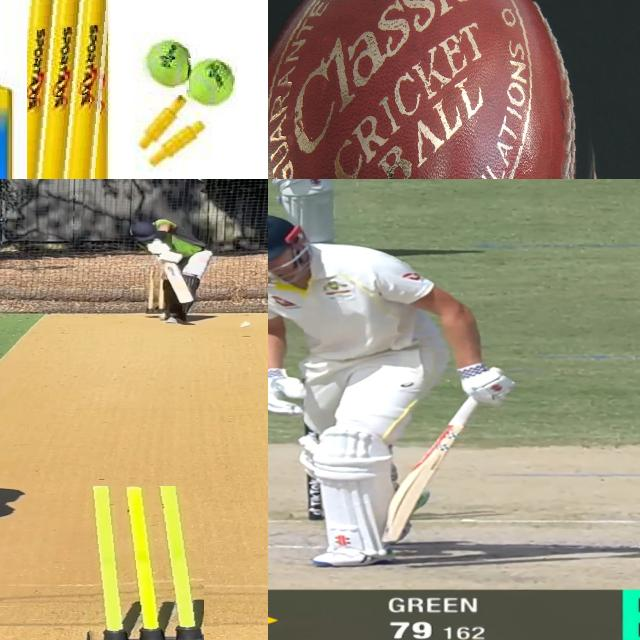Cricket ball: (268, 0, 617, 179), (140, 36, 191, 92), (187, 58, 237, 110), (238, 320, 254, 331)
Stumps: (72, 485, 204, 640), (27, 0, 112, 179)
